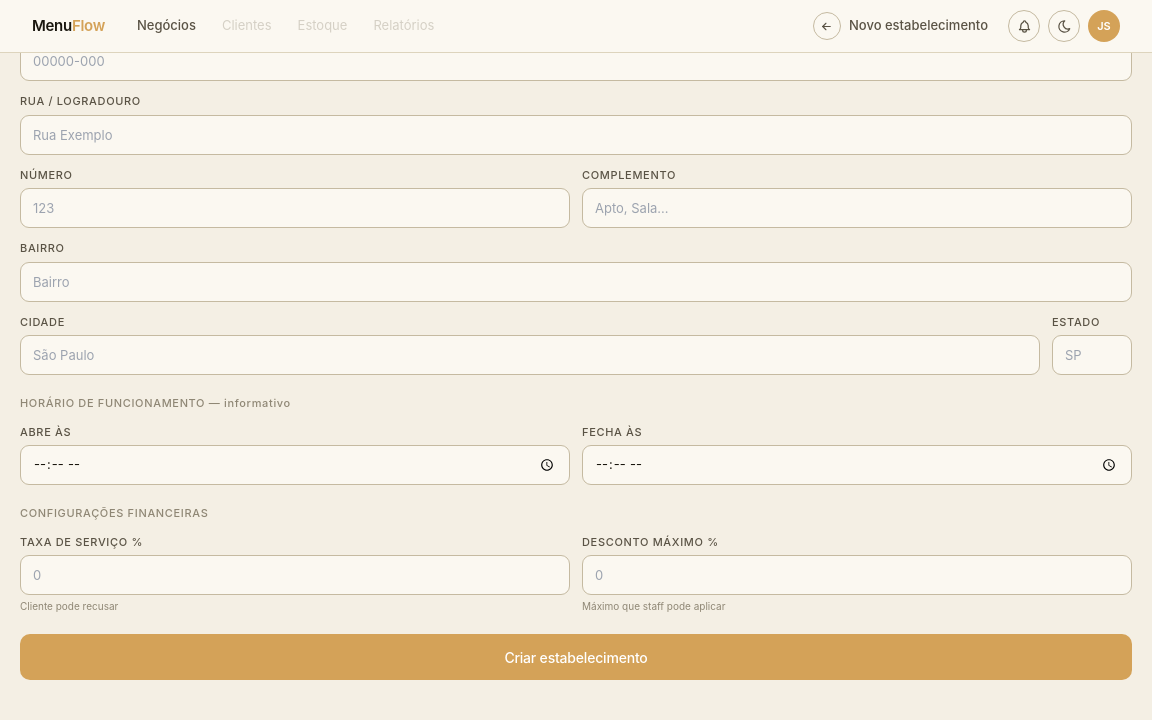
Scenario: BusinessForm — modo criação › exibe erro se nome estiver vazio ao submeter
(page scrolled)
Click the button with test id "btn-submit" at (576, 657), box [20, 634, 1132, 680]
(page scrolled)
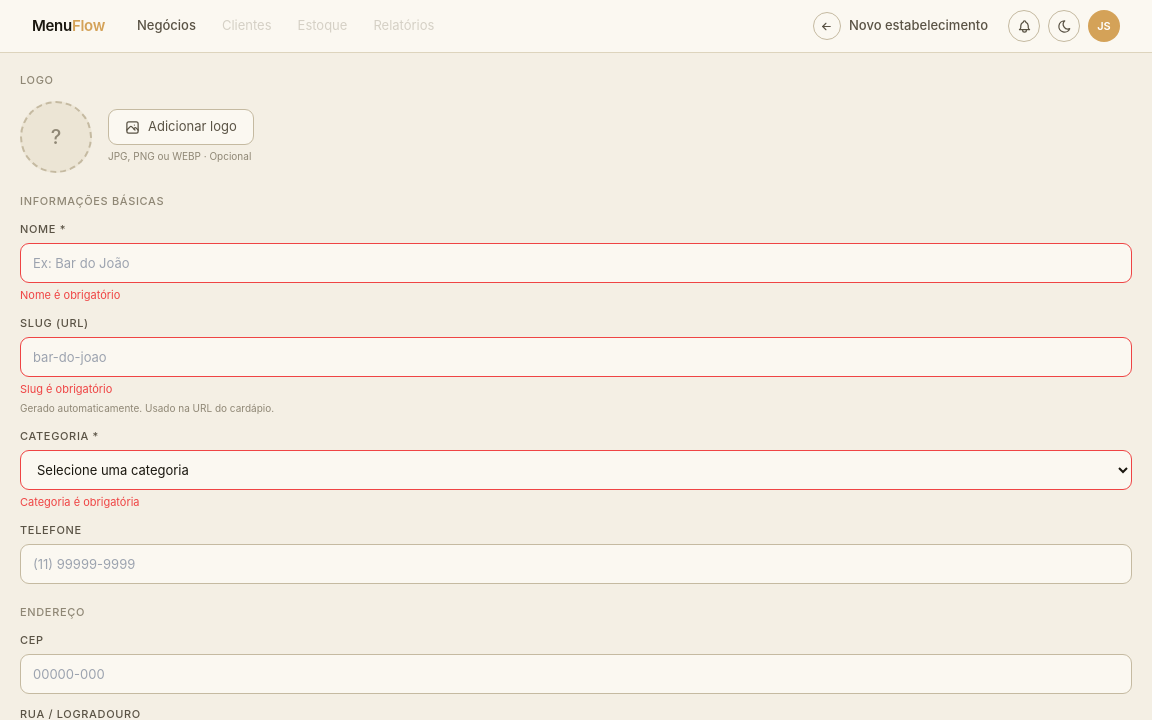
Check: the text "Nome é obrigatório" is shown, box [20, 288, 120, 302]
